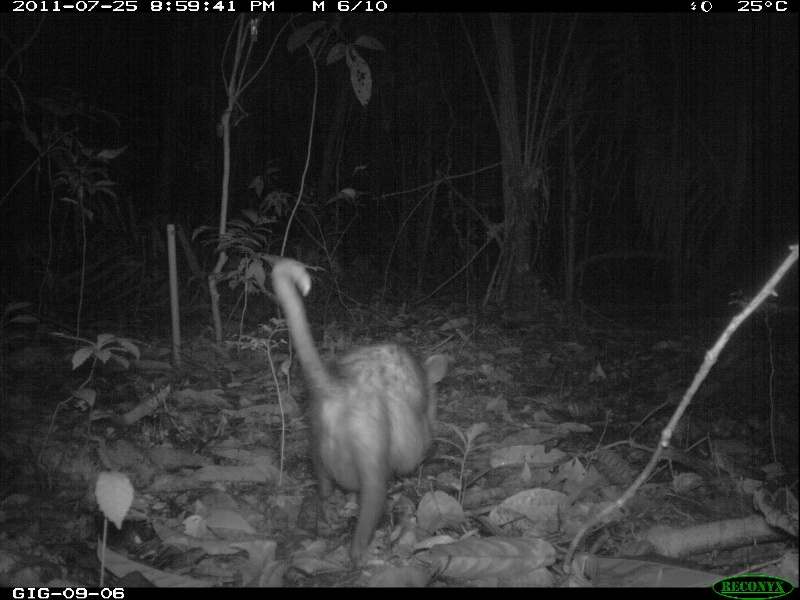opossum: (270, 258, 457, 562)
